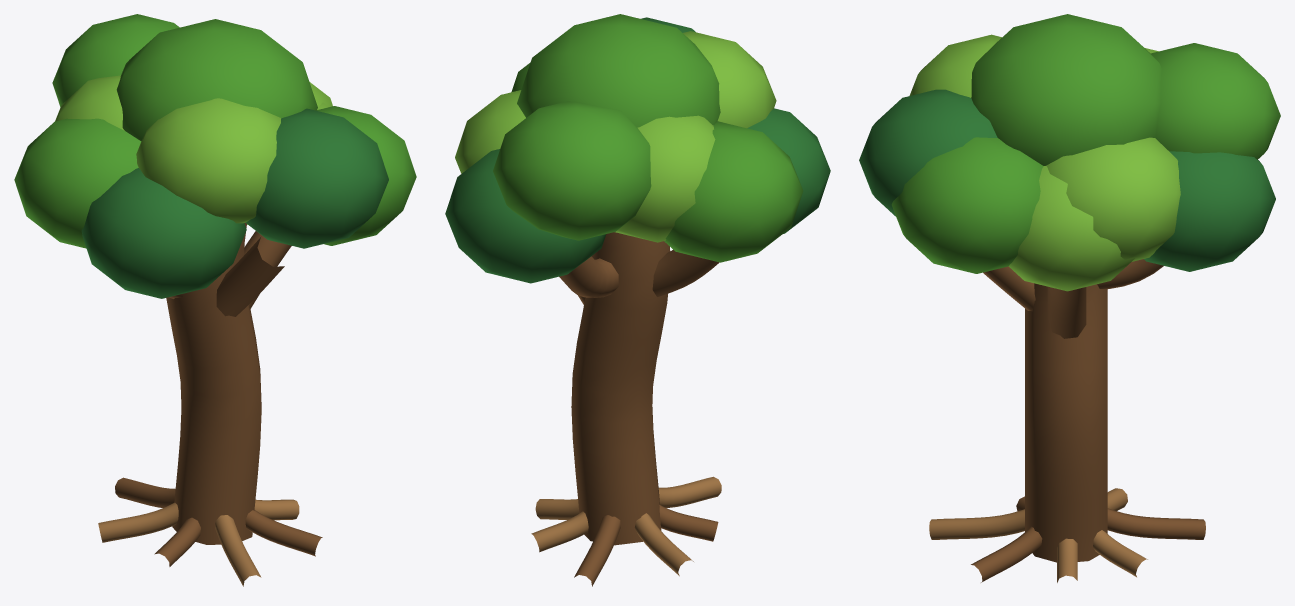
The model's file is tree-jungle.glb.
3 renders of one model, left to right at view 1: azimuth 30°, elevation 25°; view 2: azimuth 150°, elevation 25°; view 3: azimuth 270°, elevation 25°, orthographic. The views are drawn at different scales.
Parts seen in each view (by area): view 1: JungleCanopy, JungleRoots_SculptedBarkLight_0, JungleRoots_SculptedBark_1; view 2: JungleCanopy, JungleRoots_SculptedBarkLight_0, JungleRoots_SculptedBark_1; view 3: JungleCanopy, JungleRoots_SculptedBarkLight_0, JungleRoots_SculptedBark_1.
Boxes of the visible parts, x1,y1,x2,y2 form: JungleCanopy: (14, 14, 416, 544); JungleRoots_SculptedBarkLight_0: (98, 499, 299, 586); JungleRoots_SculptedBark_1: (115, 477, 322, 566); JungleCanopy: (445, 14, 830, 545); JungleRoots_SculptedBarkLight_0: (531, 476, 721, 576); JungleRoots_SculptedBark_1: (574, 505, 718, 586); JungleCanopy: (859, 14, 1280, 562); JungleRoots_SculptedBarkLight_0: (929, 488, 1147, 582); JungleRoots_SculptedBark_1: (971, 496, 1205, 582).
Size of the model in its own units: 1.46 by 2.17 by 1.58.
